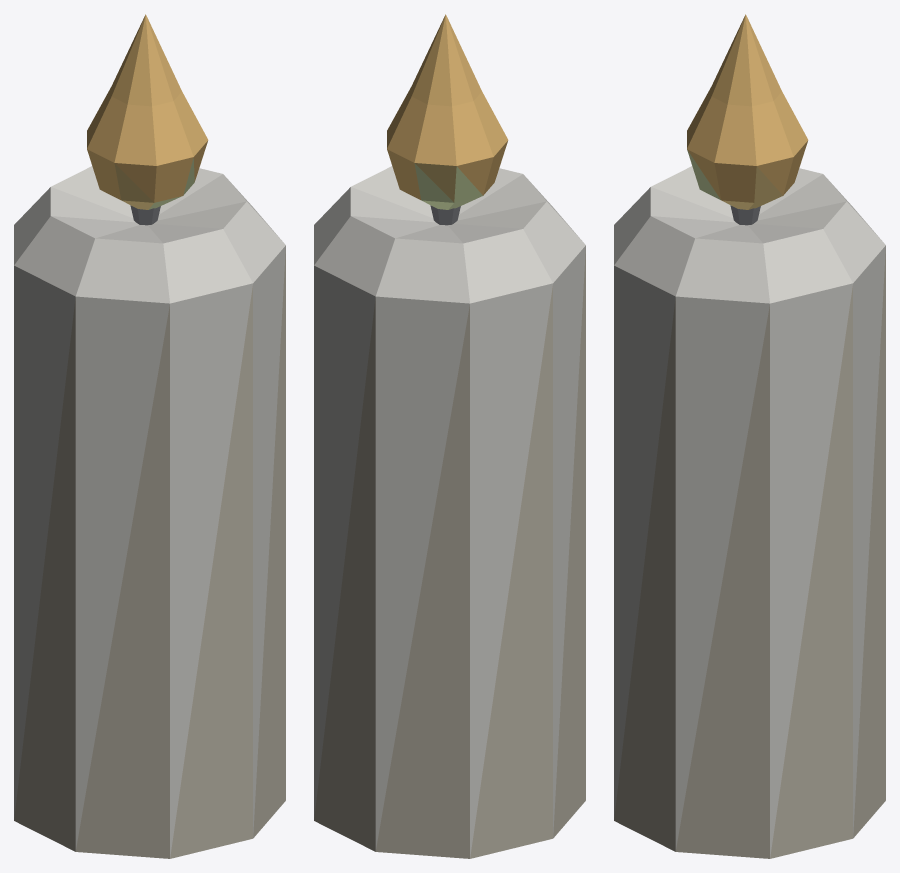
3 renders of one model, left to right at view 1: azimuth 30°, elevation 25°; view 2: azimuth 150°, elevation 25°; view 3: azimuth 270°, elevation 25°, orthographic.
Parts seen in each view (by area): view 1: model; view 2: model; view 3: model.
Boxes of the visible parts, x1,y1,x2,y2 form: model: (14,14,285,858); model: (314,14,585,858); model: (614,14,885,858).
Bounding box in the file's own units: 0.2341 × 0.7358 × 0.2305.
